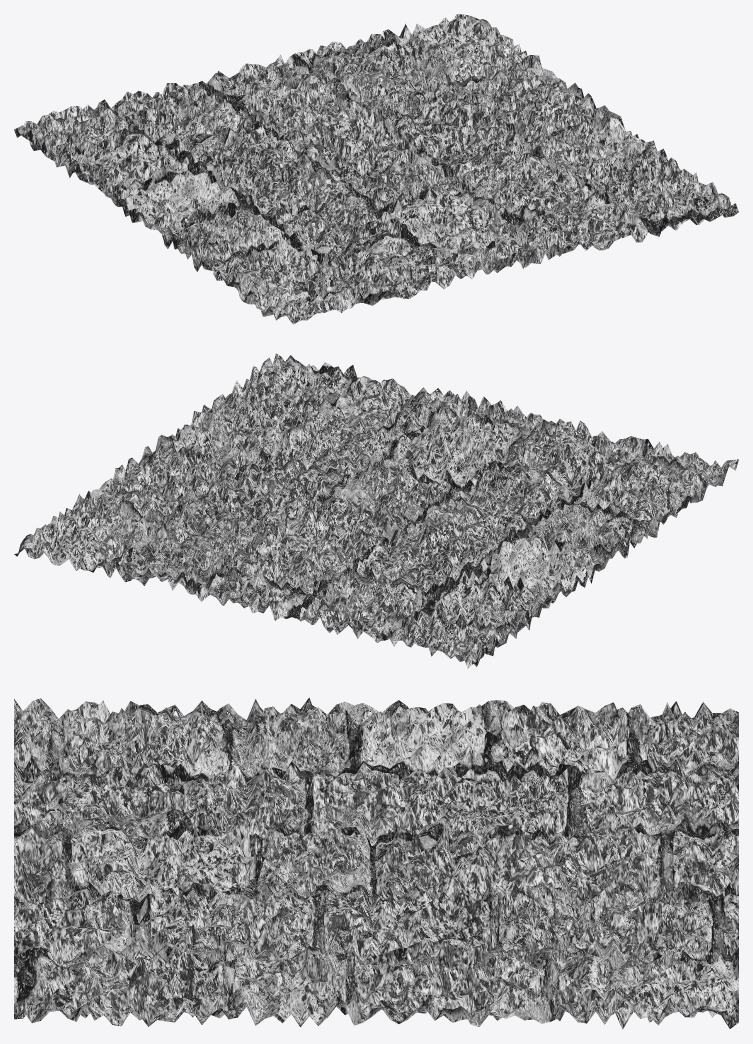
The model's file is 10243Dplane.fbx.
The picture shows the model from 3 angles, top to bottom: view 1: azimuth 30°, elevation 25°; view 2: azimuth 150°, elevation 25°; view 3: azimuth 270°, elevation 25°; orthographic projection. The views are drawn at different scales.
Visible parts, largest first — view 1: 1024stone_1; view 2: 1024stone_1; view 3: 1024stone_1.
Boxes of the visible parts, x1,y1,x2,y2 form: 1024stone_1: (14, 14, 738, 324); 1024stone_1: (14, 353, 738, 668); 1024stone_1: (14, 697, 738, 1029).
Bounding box in the file's own units: 100 × 4.42 × 100.
